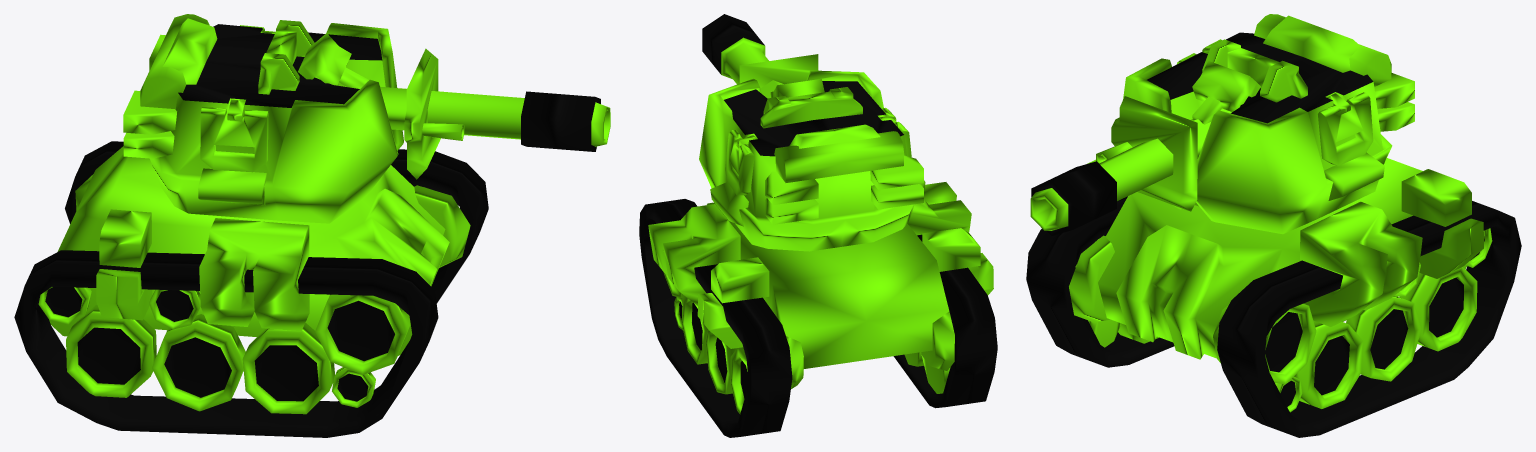
File: ToyObject_031.fbx
The picture shows the model from 3 angles, left to right: view 1: azimuth 30°, elevation 25°; view 2: azimuth 150°, elevation 25°; view 3: azimuth 270°, elevation 25°; orthographic projection. The views are drawn at different scales.
Parts seen in each view (by area): view 1: Object.076; view 2: Object.076; view 3: Object.076.
Boxes of the visible parts, x1=… form: Object.076: x1=14, y1=14, x2=610, y2=437; Object.076: x1=639, y1=14, x2=997, y2=437; Object.076: x1=1026, y1=14, x2=1521, y2=437.
Size of the model in its own units: 0.2231 by 0.1507 by 0.2092.
